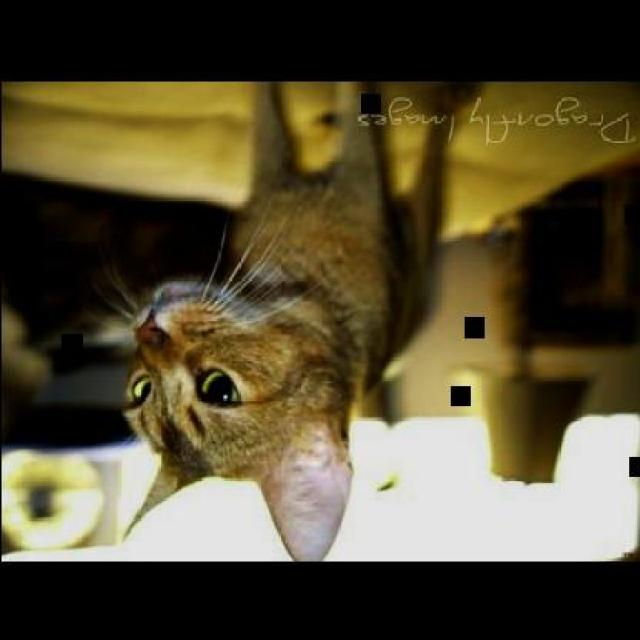unauthorized: (88, 80, 450, 562)
